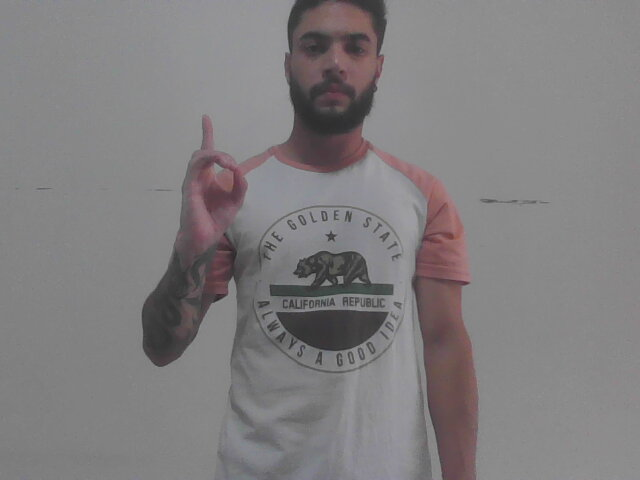d: (165, 110, 251, 257)
